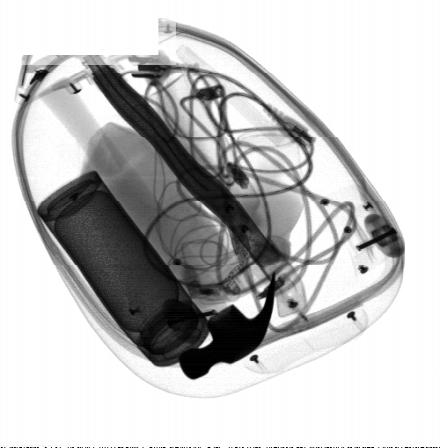Hammer: (36, 76, 277, 380)
